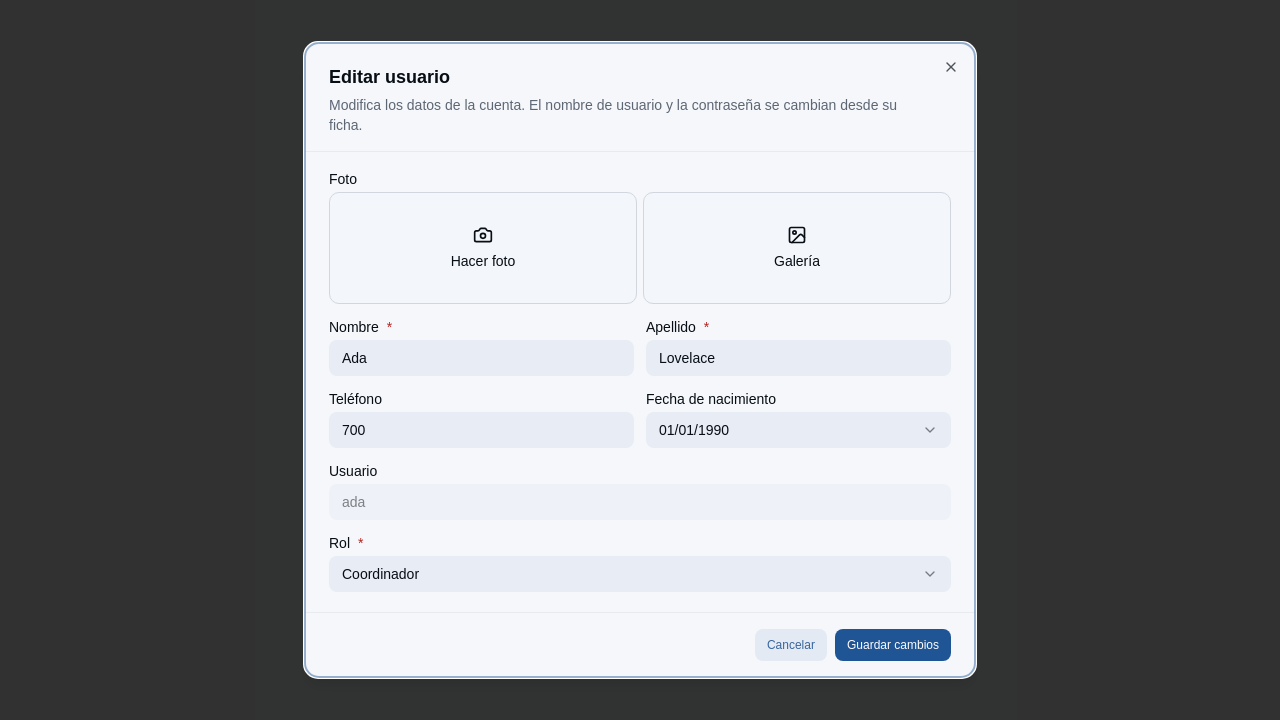
Test: el rol, que ya no viaja dentro del perfil › abre aunque haya un rol sin nombre, y lo lista diciendo cuál es
Click the button "Coordinador" at (381, 574), box [329,556,951,592]
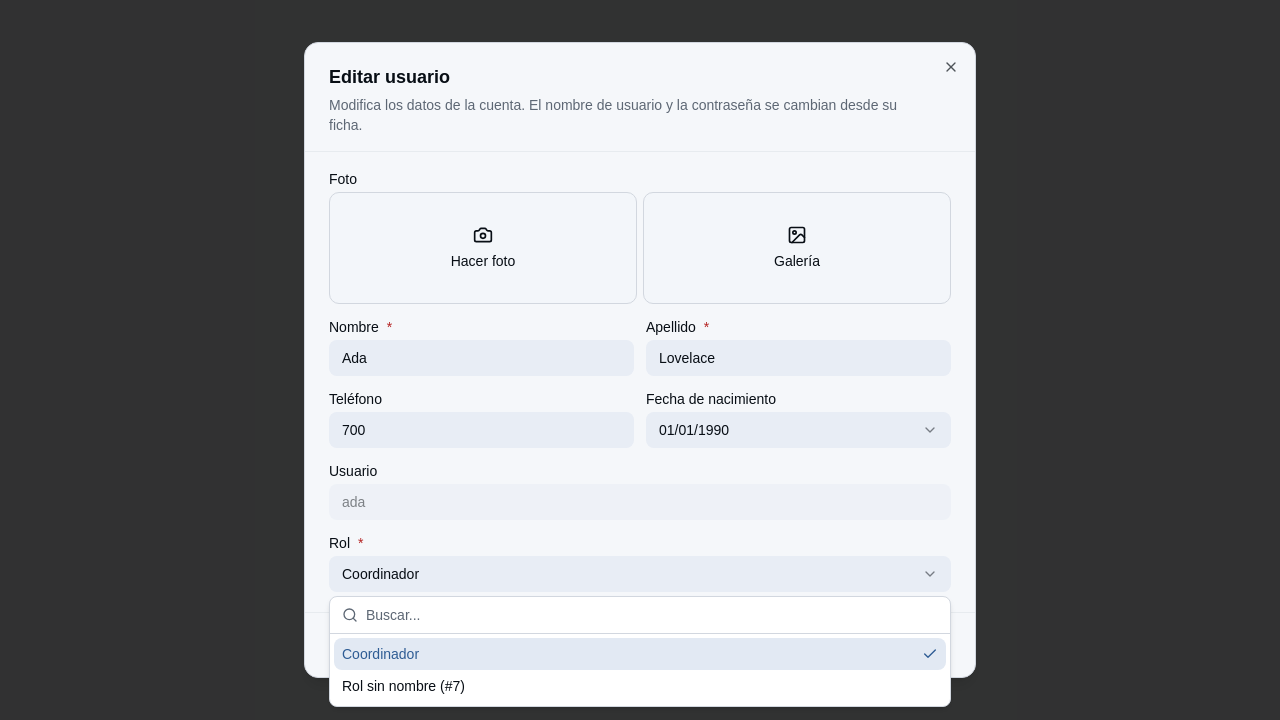
Check: the text "Rol sin nombre (#7)" is shown, box [342,678,465,694]
